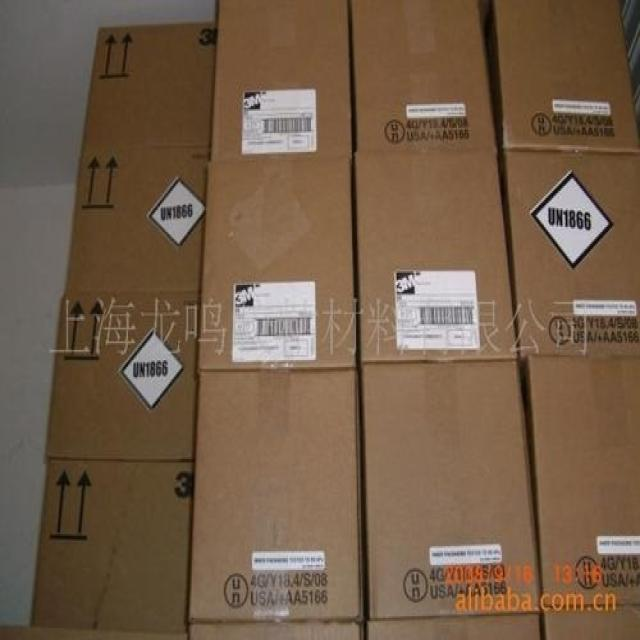box: (358, 358, 540, 618), (188, 367, 364, 623), (197, 154, 358, 369), (355, 152, 518, 364), (522, 353, 640, 606), (503, 150, 640, 357), (28, 463, 192, 630), (42, 297, 198, 463), (210, 0, 352, 160), (493, 0, 640, 152), (351, 0, 498, 150), (64, 148, 210, 295), (81, 22, 215, 148)
